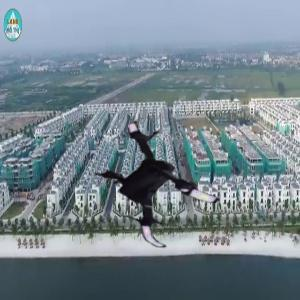drone: (80, 108, 224, 252)
